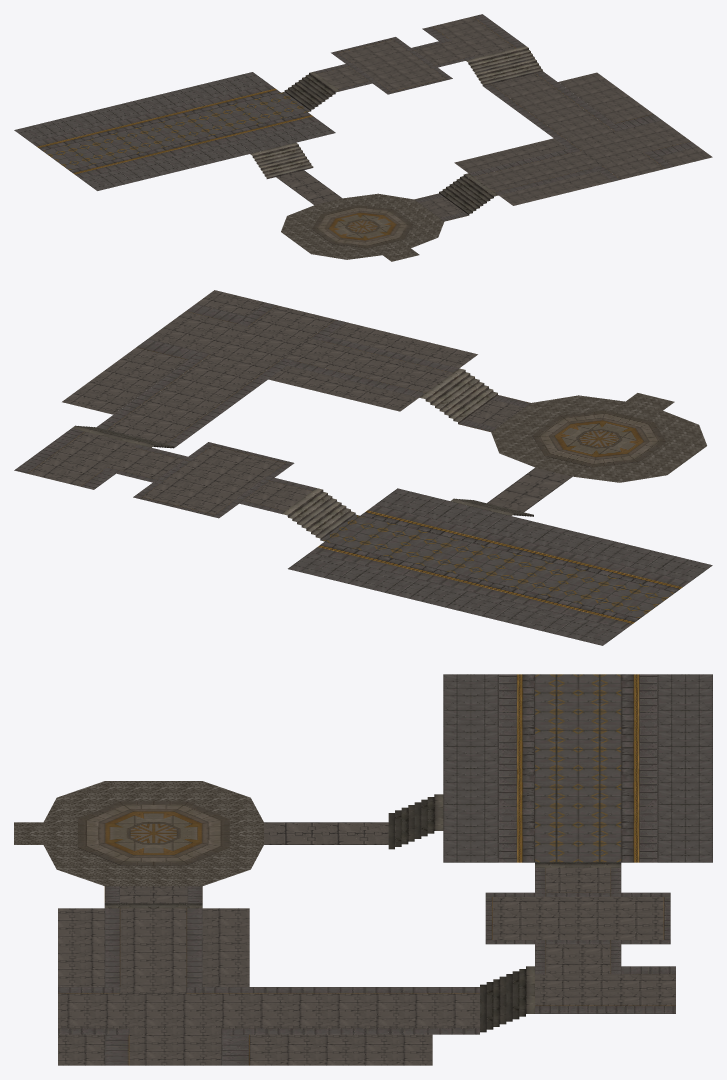
File: Battle06_Ground_01.FBX
The picture shows the model from 3 angles, top to bottom: view 1: azimuth 30°, elevation 25°; view 2: azimuth 150°, elevation 25°; view 3: azimuth 270°, elevation 25°; orthographic projection. The views are drawn at different scales.
Parts seen in each view (by area): view 1: Battle06_Ground_01, Battle06_Ground_02, Battle06_Ground_03, Battle06_Ground_04; view 2: Battle06_Ground_01, Battle06_Ground_02, Battle06_Ground_03, Battle06_Ground_04; view 3: Battle06_Ground_01, Battle06_Ground_02, Battle06_Ground_03, Battle06_Ground_04.
Part boxes in pixels (x1,y1,x2,y2): Battle06_Ground_01: (14,14,698,221); Battle06_Ground_02: (276,16,712,217); Battle06_Ground_03: (250,46,542,248); Battle06_Ground_04: (281,193,444,261); Battle06_Ground_01: (14,302,712,645); Battle06_Ground_02: (28,290,572,514); Battle06_Ground_03: (72,368,666,539); Battle06_Ground_04: (491,393,706,482); Battle06_Ground_01: (58,674,712,1065); Battle06_Ground_02: (58,822,675,1065); Battle06_Ground_03: (78,794,621,1032); Battle06_Ground_04: (14,781,263,886).
Size of the model in its own units: 167 by 8.5 by 126.
